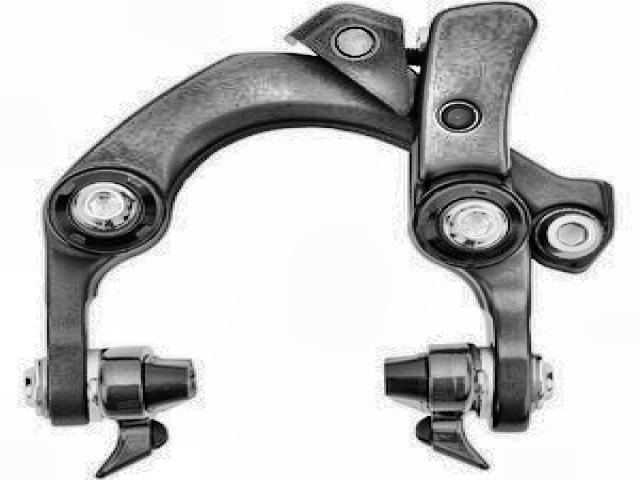rim_brake: (16, 2, 622, 473)
